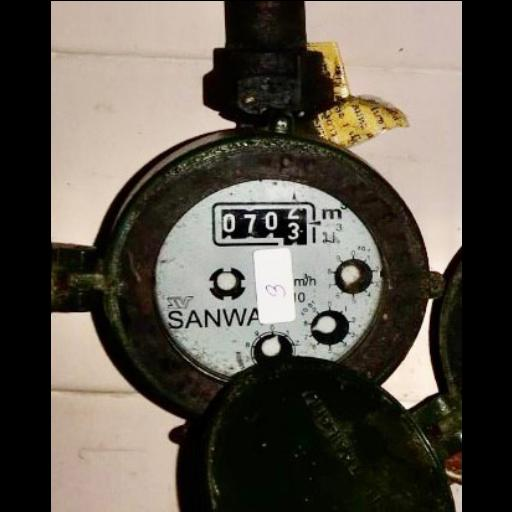0: (259, 207, 281, 237), (220, 208, 241, 239)
3: (282, 208, 306, 245)
7: (239, 208, 259, 239)
border_water_meter_number: (211, 200, 318, 246)
